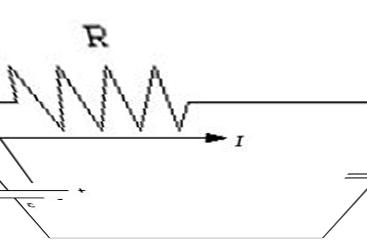resistor: (3, 57, 197, 132)
